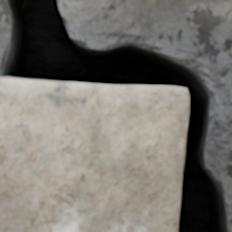brick: (0, 77, 188, 231)
crack: (2, 0, 230, 231)
